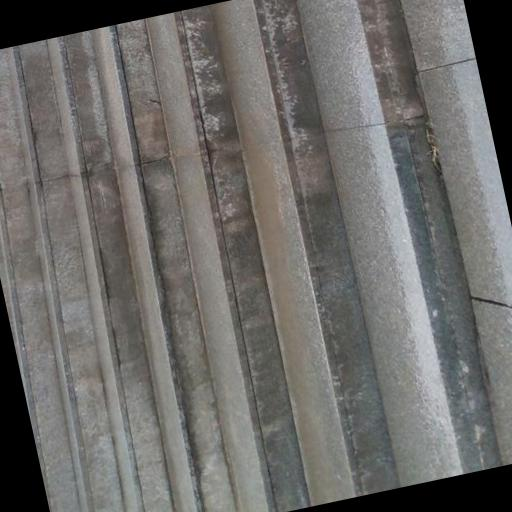stairs: (0, 0, 500, 511)
